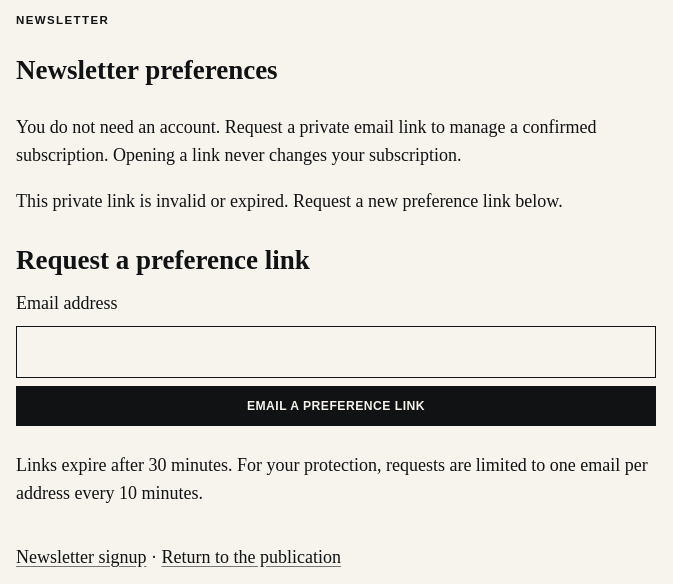
Test: email-only newsletter preferences › does not manufacture preferences or success after an expired link or transport error
expect the message shows "invalid or expired": met, box [16,191,563,211]
In the field labelled "Email address": [336, 352] box [16,326,656,378], type "reader@example.test"
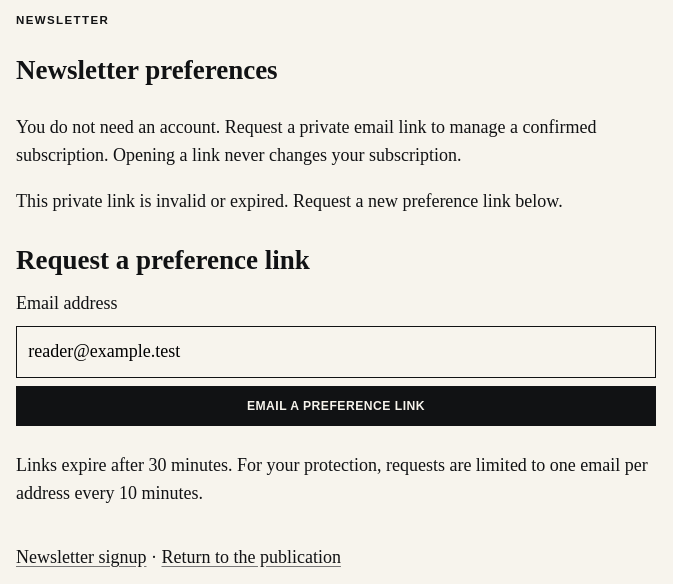
Click the button "Email a preference link": [336, 406] box [16,386,656,426]
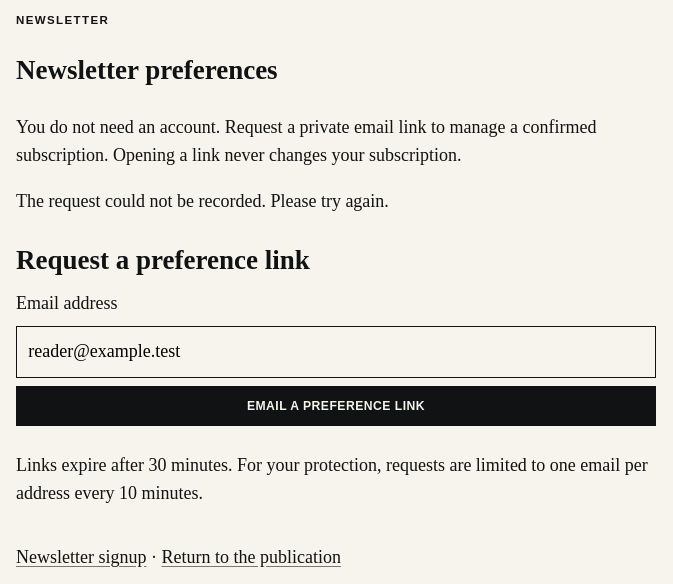
expect the message shows "could not be recorded": met, box [16,191,389,211]
